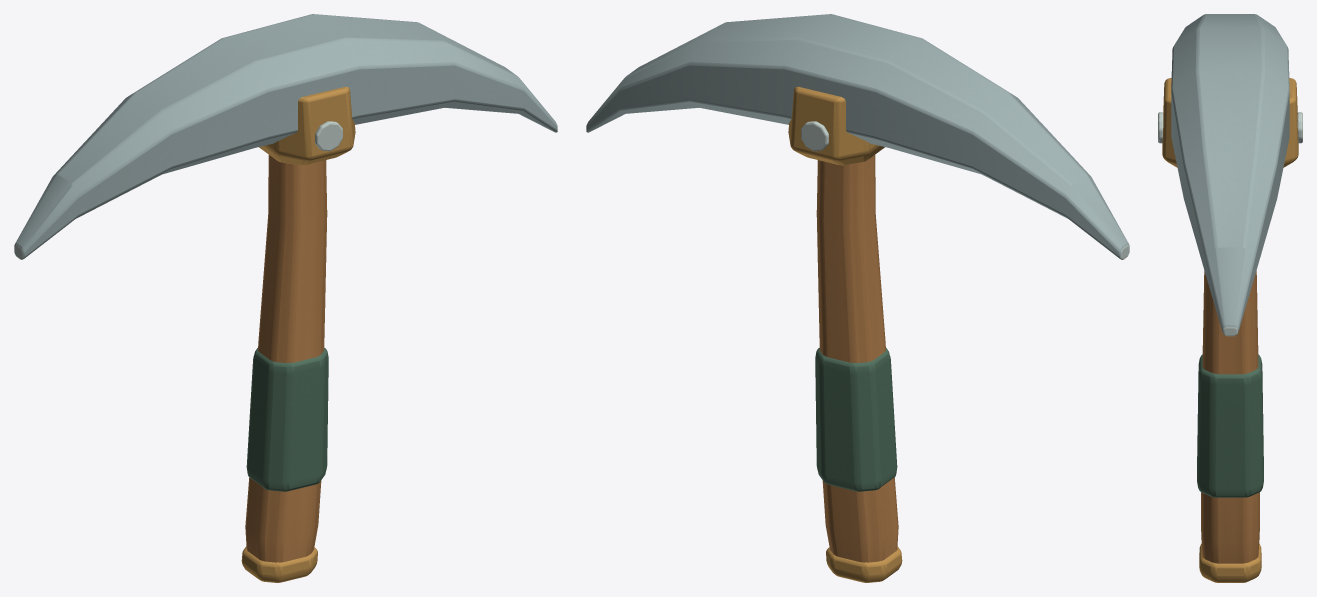
The model's file is pickaxe-basic.glb.
The picture shows the model from 3 angles, left to right: view 1: azimuth 30°, elevation 25°; view 2: azimuth 150°, elevation 25°; view 3: azimuth 270°, elevation 25°; orthographic projection.
Visible parts, largest first — view 1: Pickaxe_Mesh; view 2: Pickaxe_Mesh; view 3: Pickaxe_Mesh.
Part boxes in pixels (x1,y1,x2,y2): Pickaxe_Mesh: (14,14,557,582); Pickaxe_Mesh: (586,14,1129,582); Pickaxe_Mesh: (1158,14,1302,582).
Bounding box in the file's own units: 0.948 × 0.9 × 0.225.
Materials: 1 (1 with a texture image).
